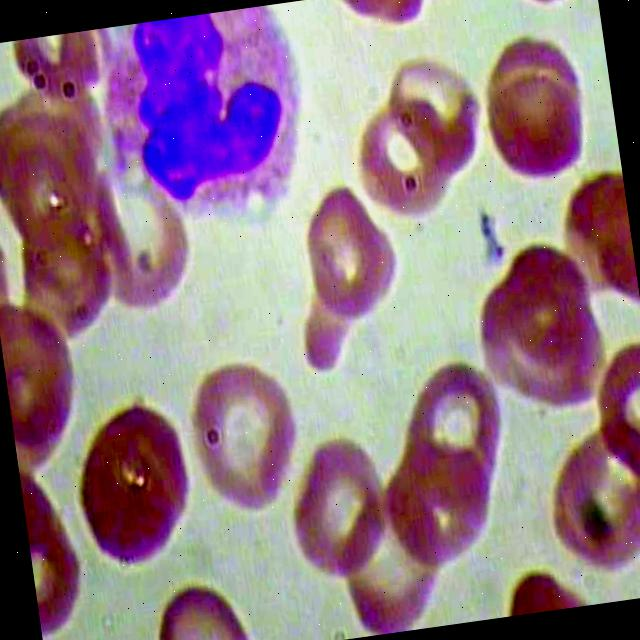RBC: (266, 177, 416, 388), (66, 391, 206, 574), (175, 344, 308, 530), (470, 29, 606, 192), (532, 412, 640, 591), (279, 433, 401, 589), (477, 236, 599, 392), (395, 357, 517, 512), (380, 46, 490, 191), (0, 300, 87, 462), (147, 571, 257, 640)
WBC: (85, 1, 323, 244)
